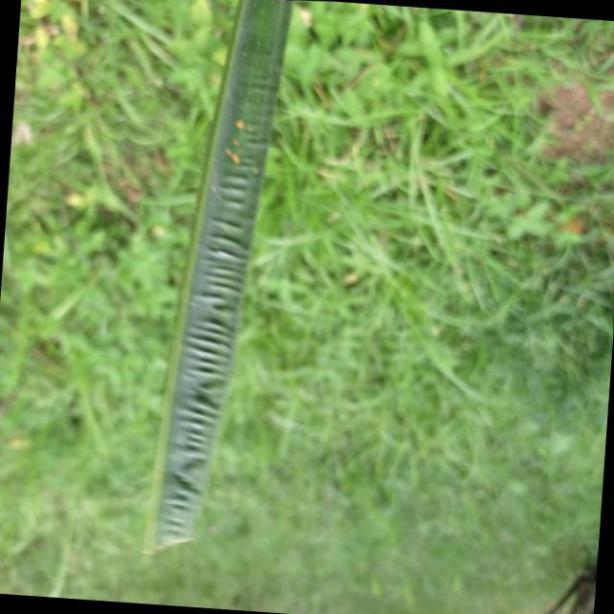Boron: (142, 0, 289, 553)
